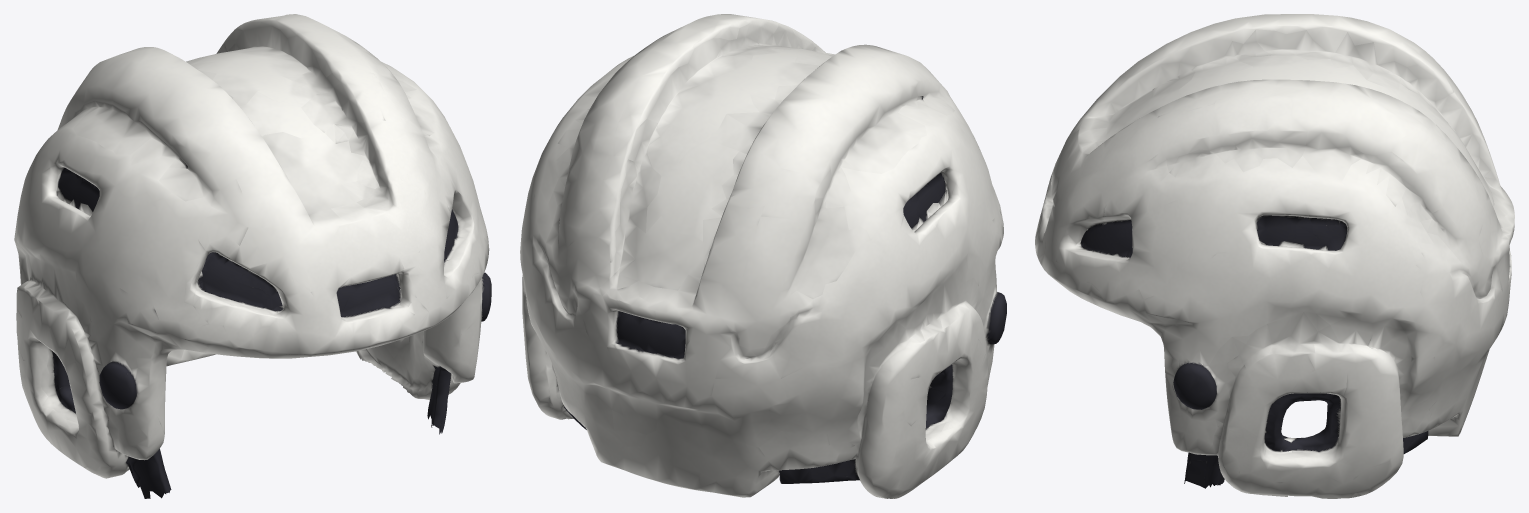
Rendered from helmet.obj.
The picture shows the model from 3 angles, left to right: view 1: azimuth 30°, elevation 25°; view 2: azimuth 150°, elevation 25°; view 3: azimuth 270°, elevation 25°; orthographic projection. The views are drawn at different scales.
Size of the model in its own units: 1.54 by 1.42 by 1.66.
Materials: 1 (1 with a texture image).
